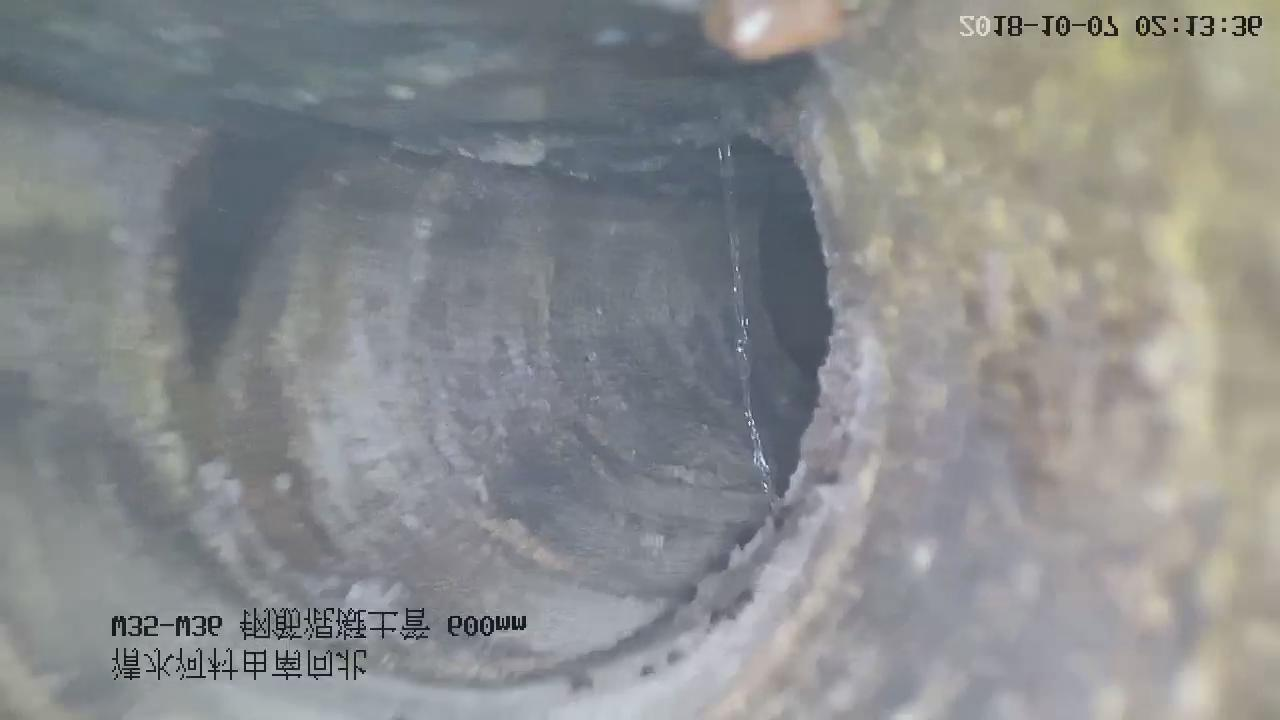CKTJ: (697, 67, 792, 523)
